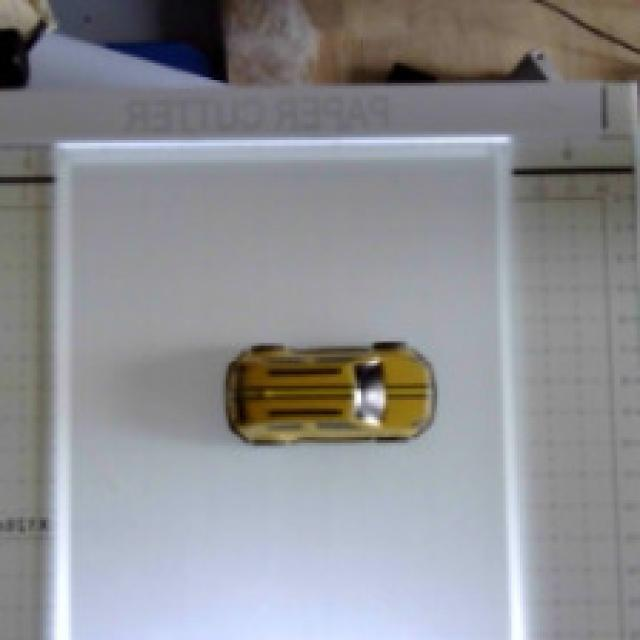Yellow Car: (163, 328, 469, 498)
